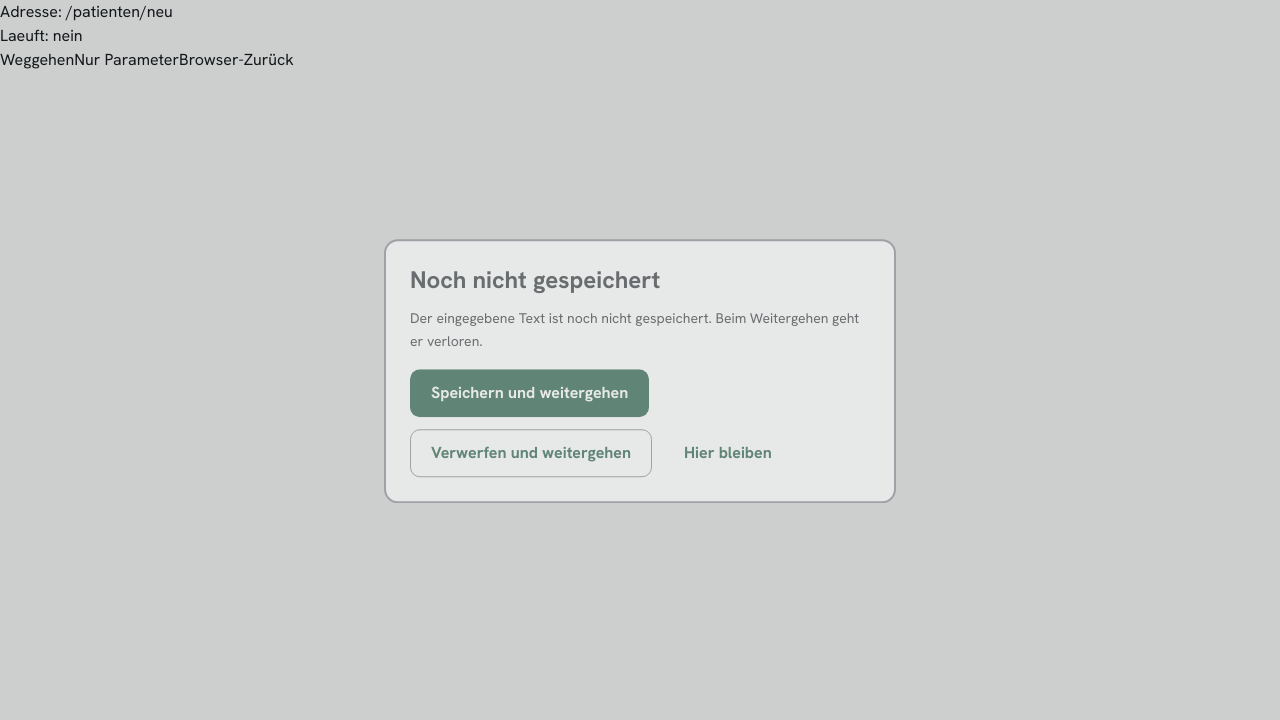
Test: Textverlustschutz: eigene Texte fuer Formulare ohne Dokumentation › fragt vor dem Seitenwechsel nach den Eingaben, nicht nach Text
Click the link "Weggehen" at (37, 60), box [0,49,74,70]
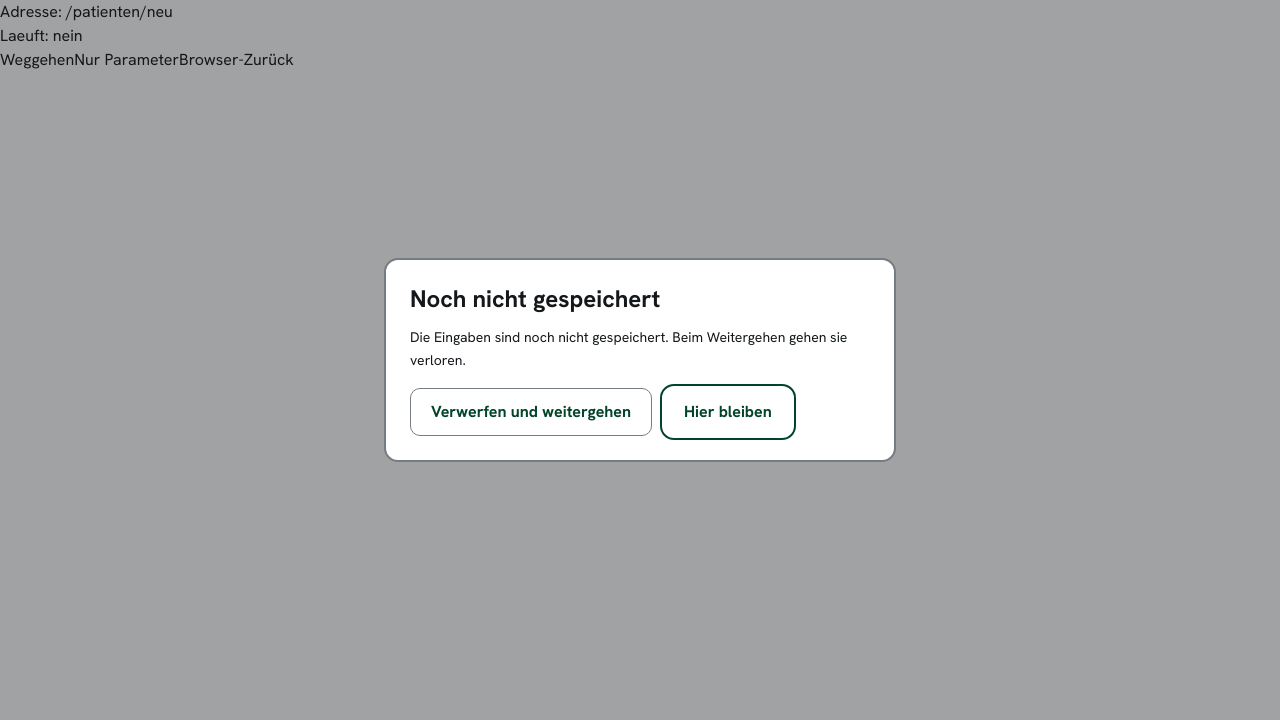
Expected: the button "Verwerfen und weitergehen" is shown, [410,388,652,436]
Result: the element named "Ungespeicherte Eingaben" shows "Die Eingaben sind noch nicht gespeichert. Beim Weitergehen gehen sie verloren." at [410,328,847,369]
Result: the button "Speichern und weitergehen" is gone
